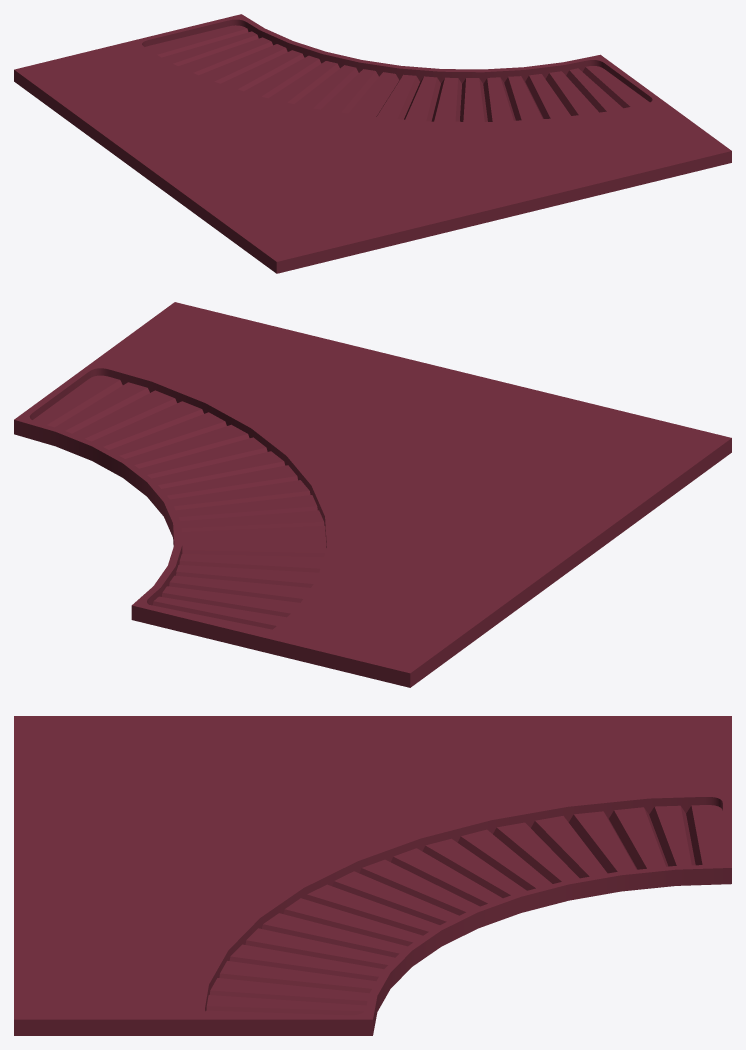
File: Floor_B_1m_TurnOut.FBX
3 renders of one model, top to bottom at view 1: azimuth 30°, elevation 25°; view 2: azimuth 150°, elevation 25°; view 3: azimuth 270°, elevation 25°, orthographic. The views are drawn at different scales.
Parts seen in each view (by area): view 1: Floor_B_1m_TurnOut; view 2: Floor_B_1m_TurnOut; view 3: Floor_B_1m_TurnOut.
Part boxes in pixels (x1,y1,x2,y2): Floor_B_1m_TurnOut: (14, 14, 731, 273); Floor_B_1m_TurnOut: (14, 302, 731, 687); Floor_B_1m_TurnOut: (14, 716, 731, 1035).
Size of the model in its own units: 400 by 10 by 400.
